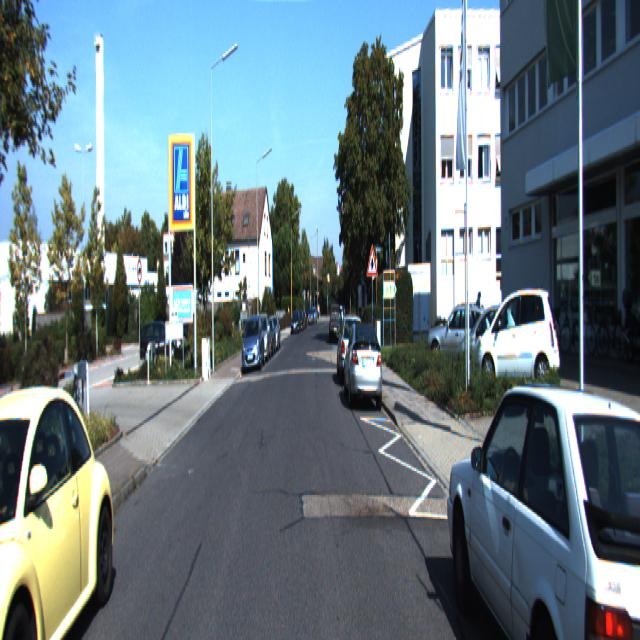Car: (440, 358, 640, 638), (0, 360, 120, 638), (474, 283, 562, 401), (452, 301, 527, 392), (425, 302, 495, 376), (343, 319, 384, 413), (336, 312, 365, 389), (241, 315, 265, 373), (328, 302, 341, 343)
